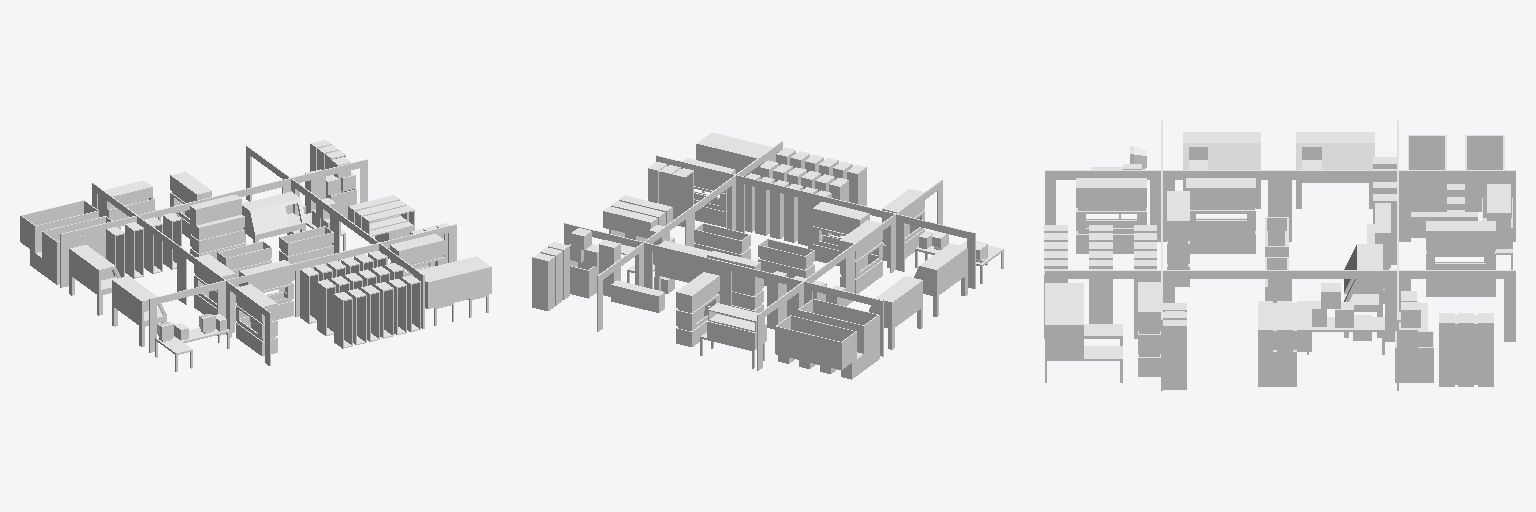
URDF robot description (track5.urdf):
<?xml version="1.0" ?>
<!-- Relatively complex parcours containing an unrealistic amount of realistic obstacles, affectionately known as 'warehouseXtreme' or 'memorykiller' -->
<robot name="track5.urdf">
  <link concave="yes" name="baseLink">
    <inertial>
      <origin rpy="0 0 0" xyz="0 0 0"/>
       <mass value=".0"/>
       <inertia ixx="0" ixy="0" ixz="0" iyy="0" iyz="0" izz="0"/>
    </inertial>
    <visual>
      <origin rpy="0 0 0" xyz="0 0 0"/>
      <geometry>
				<mesh filename="track5.obj" scale="1 1 1"/>
      </geometry>
       <material name="white">
        <color rgba="1 1 1 1"/>
      </material>
    </visual>
    <collision concave="yes">
      <origin rpy="0 0 0" xyz="0 0 0"/>
     <geometry>
				<mesh filename="track5.obj" scale="1 1 1"/>
      </geometry>
    </collision>
  </link>
</robot>

--- Render facts (derived) ---
The picture shows the robot from 3 angles, left to right: view 1: azimuth 30°, elevation 25°; view 2: azimuth 150°, elevation 25°; view 3: azimuth 270°, elevation 25°; orthographic projection.
Model track5.urdf with 1 links and 0 joints (none), rooted at baseLink, posed every joint at zero.
Visible links, largest first — view 1: baseLink; view 2: baseLink; view 3: baseLink.
Boxes of the visible links, x1,y1,x2,y2 form: baseLink: (20, 140, 491, 371); baseLink: (532, 133, 1003, 379); baseLink: (1044, 121, 1515, 390).
Size in the robot's own frame: 12 by 12.01 by 2 metres.
Meshes: 1 distinct files referenced, 1 mesh visuals loaded (1 OBJ).